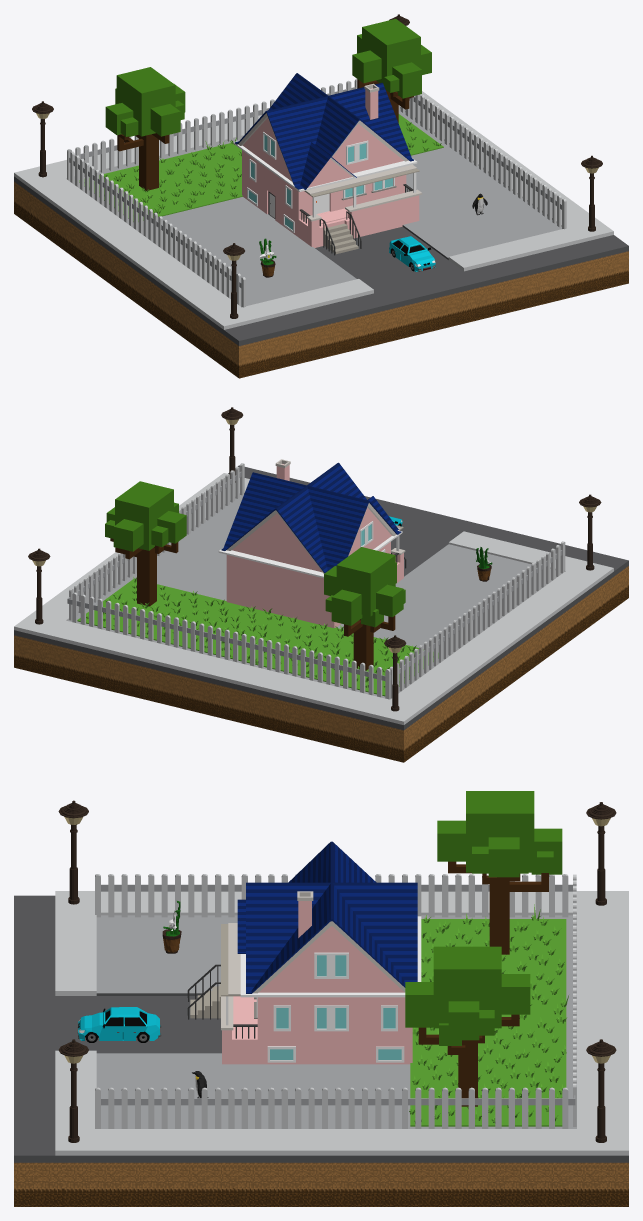
3 renders of one model, top to bottom at view 1: azimuth 30°, elevation 25°; view 2: azimuth 150°, elevation 25°; view 3: azimuth 270°, elevation 25°, orthographic. The views are drawn at different scales.
Visible parts, largest first — view 1: Cube.004, Cube.313, VEHICLES_CAR; view 2: Cube.004, Cube.313; view 3: Cube.004, Cube.313, VEHICLES_CAR, OBJRANDOM_MONJA BLANCA.
Part boxes in pixels (box(x1,y1,x2,y2)): Cube.004: box(14, 14, 628, 378); Cube.313: box(233, 73, 422, 255); VEHICLES_CAR: box(389, 236, 435, 271); Cube.004: box(14, 407, 628, 762); Cube.313: box(218, 459, 406, 627); Cube.004: box(14, 791, 628, 1206); Cube.313: box(187, 841, 421, 1064); VEHICLES_CAR: box(77, 1007, 161, 1042); OBJRANDOM_MONJA BLANCA: box(162, 901, 181, 953).
Size of the model in its own units: 4000 by 1600 by 4000.
38 materials, 3 textured.
